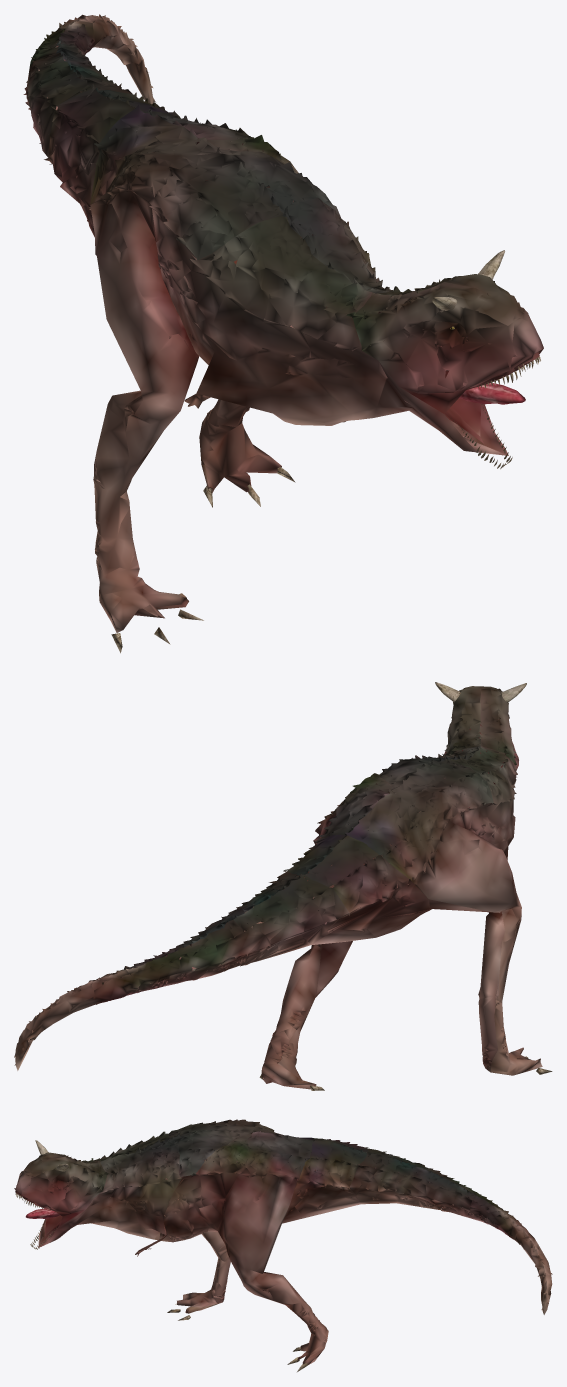
Rendered from nature-carnotaurus.glb.
3 views of the same model, one above another, from view 1: azimuth 30°, elevation 25°; view 2: azimuth 150°, elevation 25°; view 3: azimuth 270°, elevation 25° (orthographic). The views are drawn at different scales.
Parts seen in each view (by area): view 1: Object_2, Object_9; view 2: Object_2; view 3: Object_2.
Boxes of the visible parts, left/top/right/bottom form: Object_2: left=23, top=14, right=543, bottom=632; Object_9: left=459, top=383, right=525, bottom=404; Object_2: left=14, top=686, right=542, bottom=1089; Object_2: left=14, top=1119, right=552, bottom=1365.
Size of the model in its own units: 3.38 by 3.42 by 7.84.
7 materials, 7 textured.
